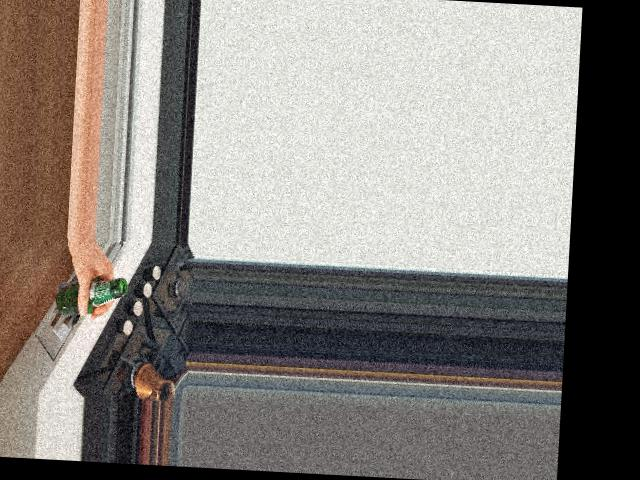beer: (54, 274, 128, 317)
